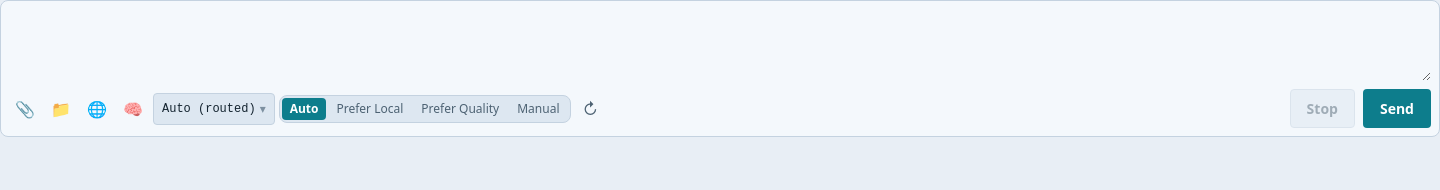
Scenario: chat surface › Composer attaches an image when the selected model supports vision
The image size is (1440, 190).
What coordinates should you click on to do the following:
click the button named "Attach file"
I would click on:
 (25, 108)
Its box is x1=9 y1=92 x2=41 y2=124.
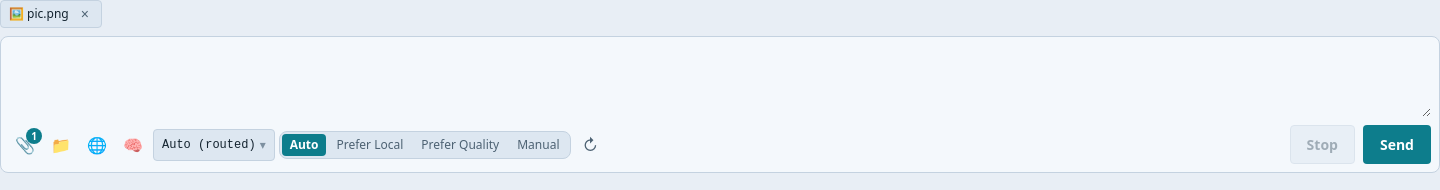
Check: the button named "Remove attachment pic.png" is shown, box x1=77 y1=6 x2=93 y2=22
